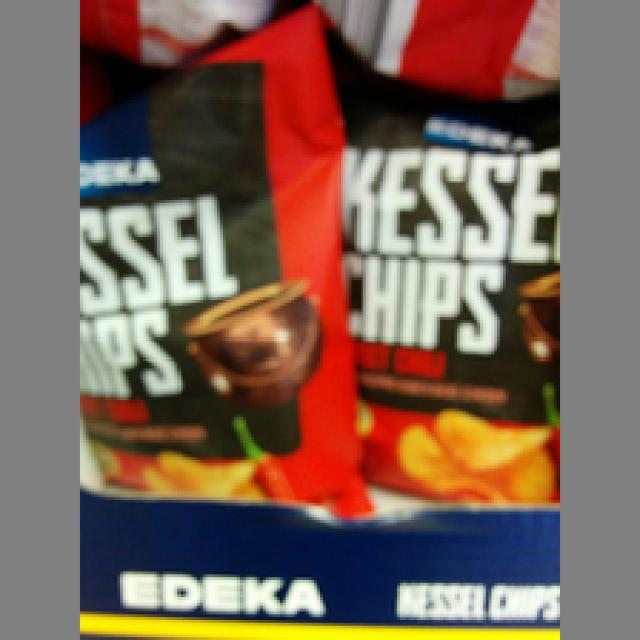groceries: (80, 26, 349, 486), (314, 20, 554, 506)
